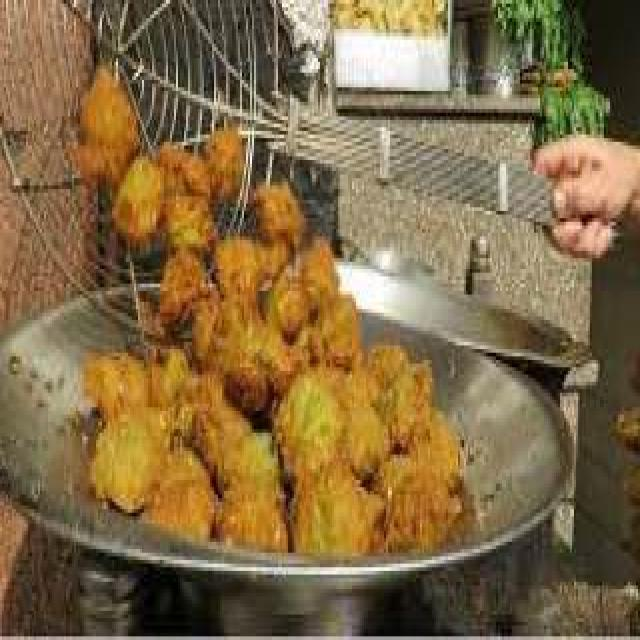taamia: (56, 63, 472, 569)
